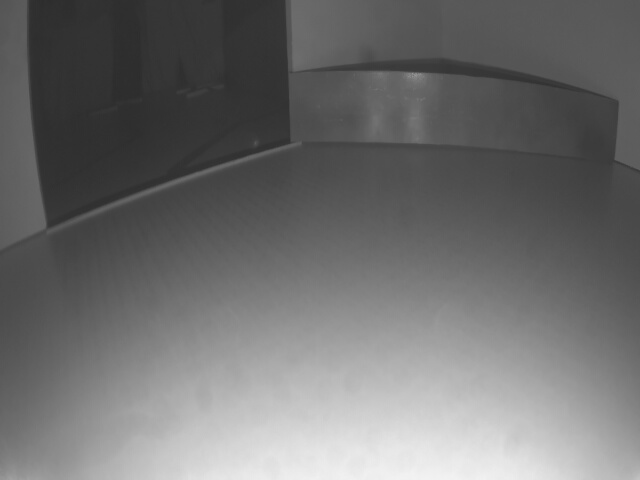Green: (283, 72, 618, 161)
